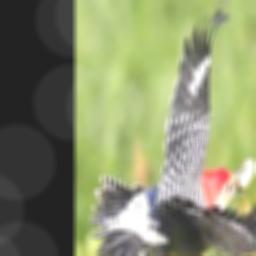Woodpecker: (89, 8, 256, 256)
